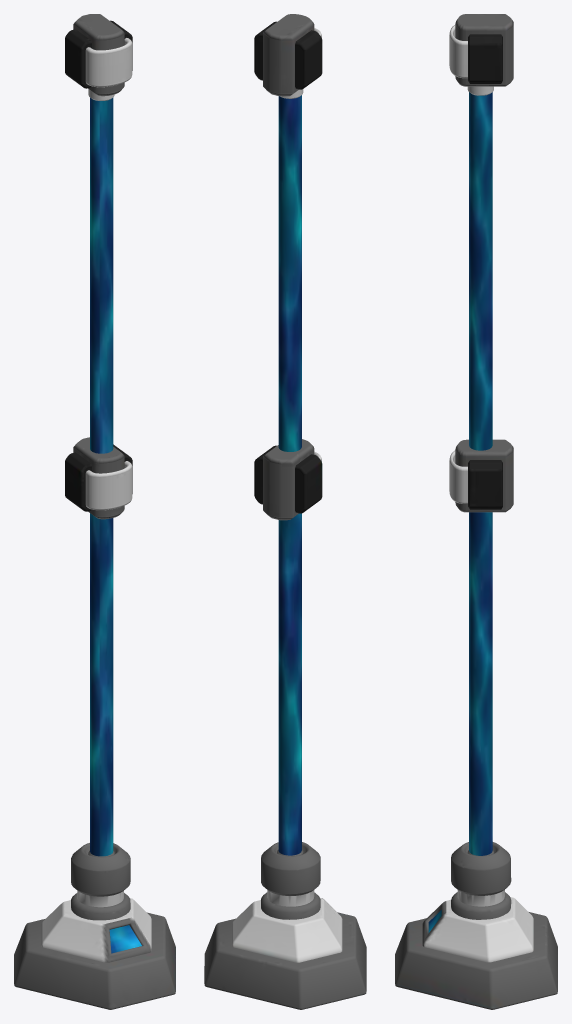
File: SM_PalBox_Pillar_3f83ef.glb
The picture shows the model from 3 angles, left to right: view 1: azimuth 30°, elevation 25°; view 2: azimuth 150°, elevation 25°; view 3: azimuth 270°, elevation 25°; orthographic projection.
Size of the model in its own units: 2.2 by 12.41 by 1.92.
1 material, 1 textured.
